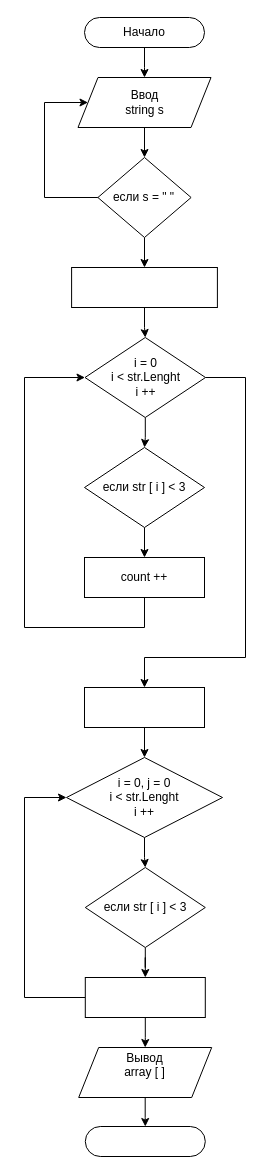
Image size: 271x1174. Some labels were removed from this diagram. The centre of each missing label's shape, as x and y in pixels:
"array [ j ] = str [ i ] j ++" goes at point (144, 997).
"new array [ count ]" goes at point (144, 707).
"string [ ] str = s.Split(' ') count = 0" goes at point (144, 287).
"Конец" goes at point (144, 1141).
